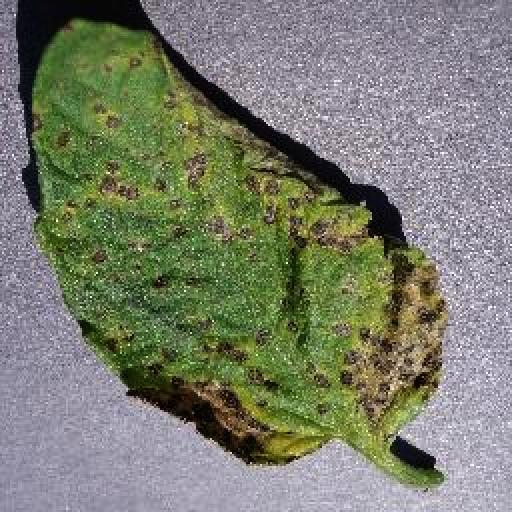disease_tomato: (30, 15, 447, 465)
